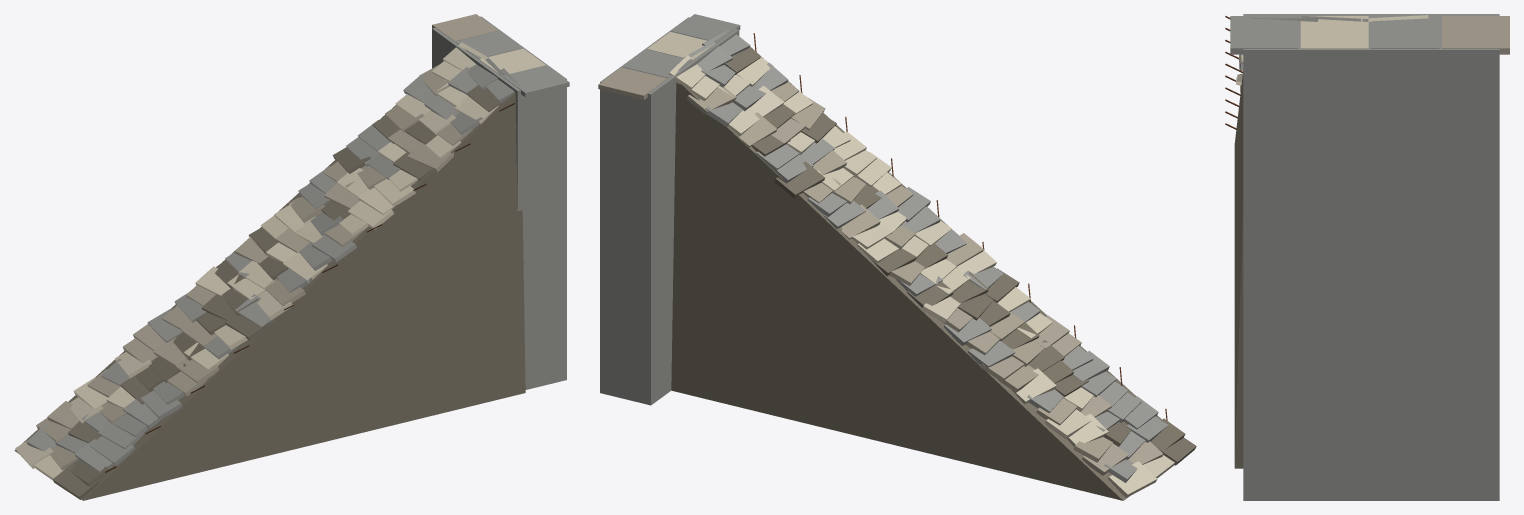
Rendered from rubble_ramp.glb.
3 renders of one model, left to right at view 1: azimuth 30°, elevation 25°; view 2: azimuth 150°, elevation 25°; view 3: azimuth 270°, elevation 25°, orthographic. The views are drawn at different scales.
Visible parts, largest first — view 1: rubble_ramp; view 2: rubble_ramp; view 3: rubble_ramp.
Boxes of the visible parts, bbox=[...] form: rubble_ramp: bbox=[14, 14, 569, 500]; rubble_ramp: bbox=[598, 14, 1196, 500]; rubble_ramp: bbox=[1225, 14, 1509, 500].
Size of what is drawn, in the model's own units: 29.07 by 17.02 by 9.67.
Materials: 1 (1 with a texture image).
